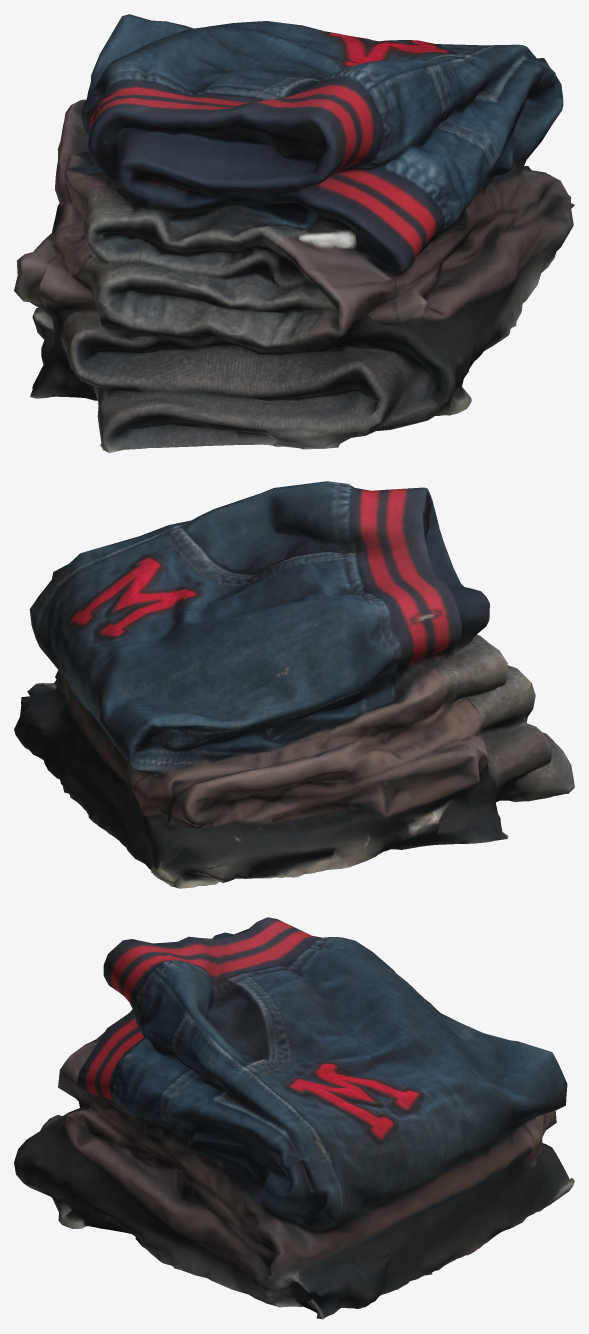
Rendered from foldedJeans.fbx.
3 views of the same model, one above another, from view 1: azimuth 30°, elevation 25°; view 2: azimuth 150°, elevation 25°; view 3: azimuth 270°, elevation 25° (orthographic). The views are drawn at different scales.
Parts seen in each view (by area): view 1: 3DModel_LowPoly; view 2: 3DModel_LowPoly; view 3: 3DModel_LowPoly.
Boxes of the visible parts, x1,y1,x2,y2 form: 3DModel_LowPoly: (14, 14, 574, 452); 3DModel_LowPoly: (14, 481, 574, 888); 3DModel_LowPoly: (14, 917, 574, 1319).
Size of the model in its own units: 4.77 by 2.5 by 4.96.
1 material, 1 textured.
